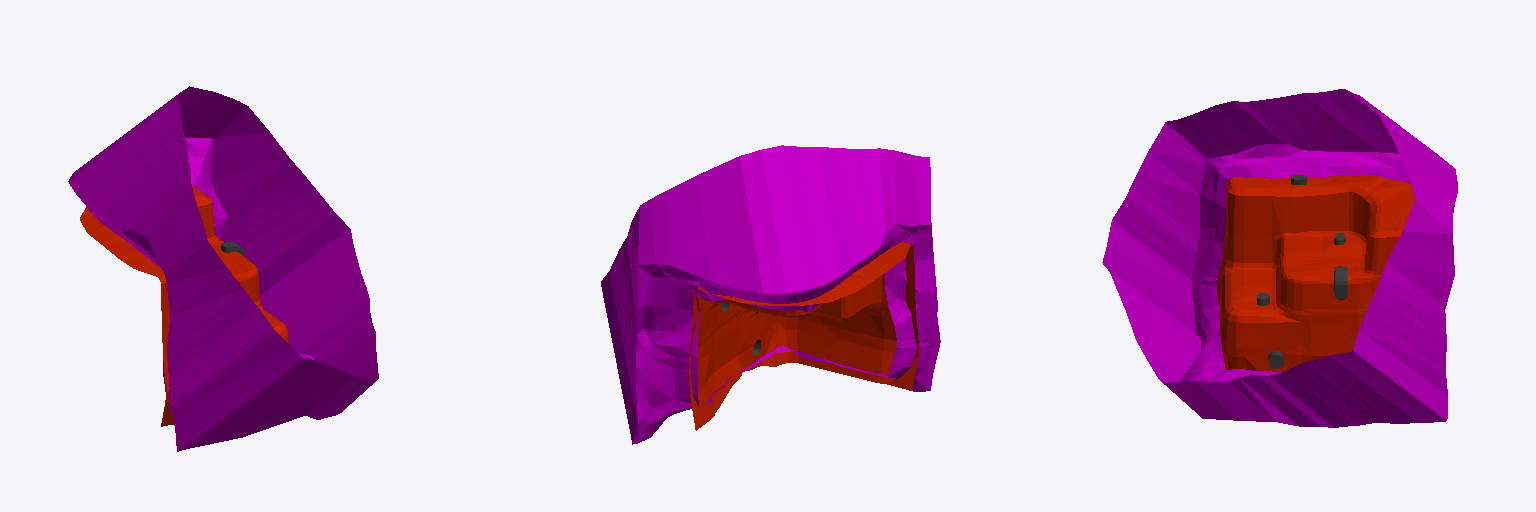
File: Unbuba.obj
3 views of the same model, side by side, from view 1: azimuth 30°, elevation 25°; view 2: azimuth 150°, elevation 25°; view 3: azimuth 270°, elevation 25° (orthographic).
Parts seen in each view (by area): view 1: LavaCubeCollision_Plane.001; view 2: LavaCubeCollision_Plane.001; view 3: LavaCubeCollision_Plane.001.
Boxes of the visible parts, <box> form: LavaCubeCollision_Plane.001: <box>68,86,378,451</box>; LavaCubeCollision_Plane.001: <box>601,145,940,444</box>; LavaCubeCollision_Plane.001: <box>1102,89,1457,427</box>.
Size of the model in its own units: 16676 by 17659 by 19607.